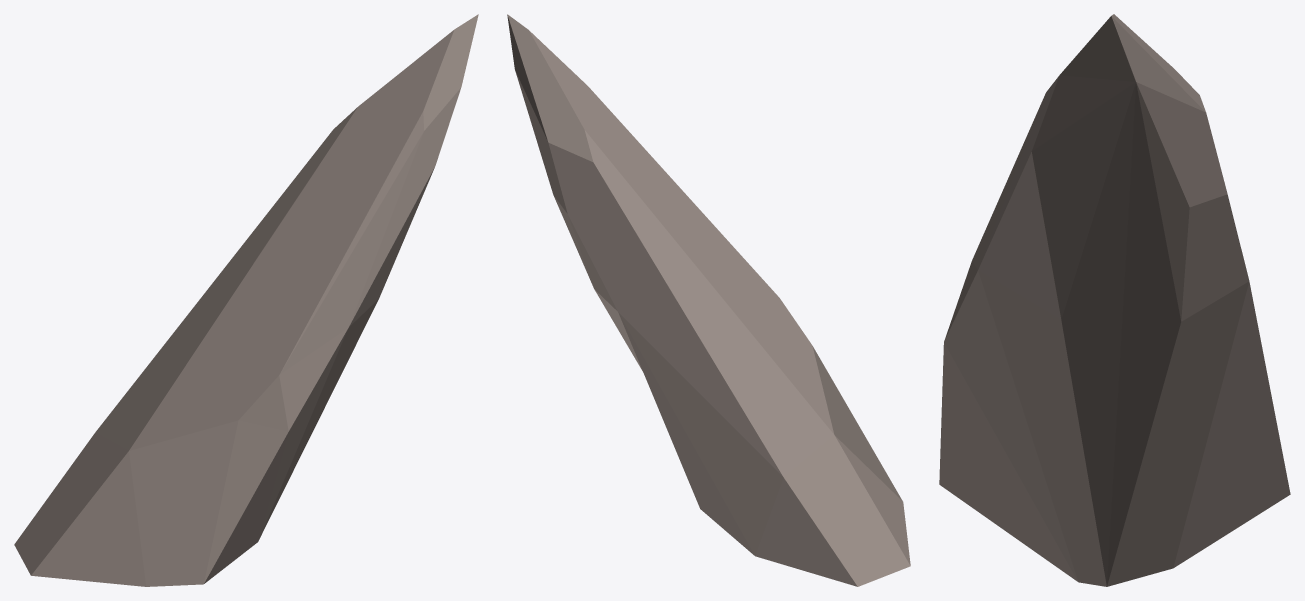
File: Rock_Sharp_l_05.fbx
The picture shows the model from 3 angles, left to right: view 1: azimuth 30°, elevation 25°; view 2: azimuth 150°, elevation 25°; view 3: azimuth 270°, elevation 25°; orthographic projection. The views are drawn at different scales.
Visible parts, largest first — view 1: Rock_Sharp_l_05; view 2: Rock_Sharp_l_05; view 3: Rock_Sharp_l_05.
Part boxes in pixels (x1,y1,x2,y2): Rock_Sharp_l_05: [14, 14, 478, 586]; Rock_Sharp_l_05: [507, 14, 910, 586]; Rock_Sharp_l_05: [939, 14, 1290, 586].
Size of the model in its own units: 5.71 by 5.82 by 2.48.
